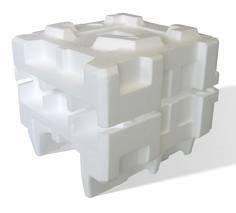sterofoam: (14, 14, 215, 194)
